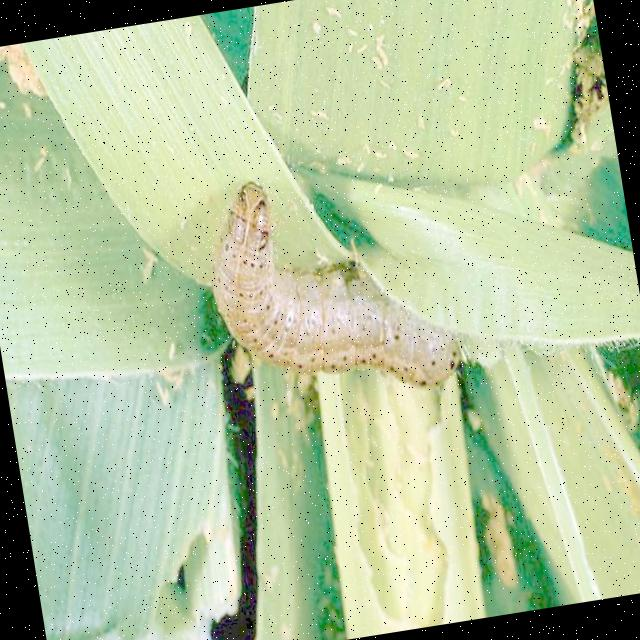worm: (195, 155, 470, 424)
